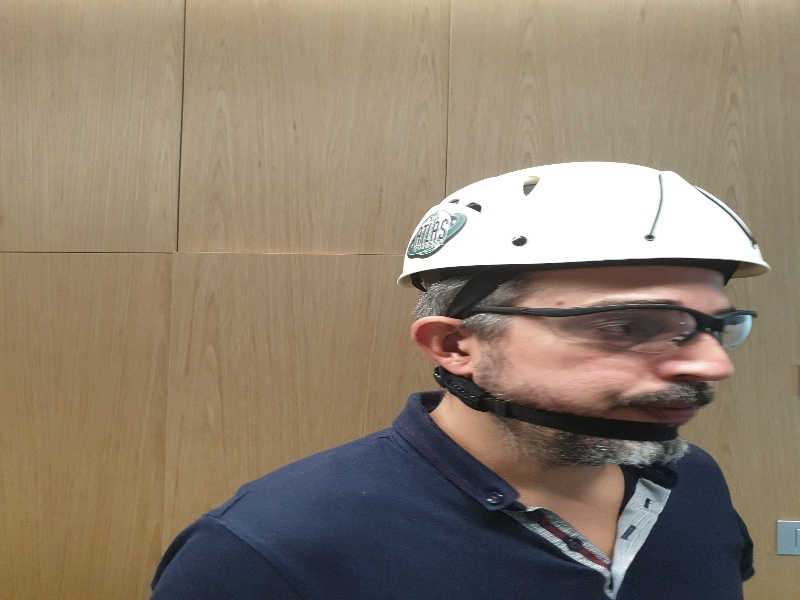Baret: (398, 161, 772, 278)
Gozluk: (451, 304, 758, 359)
